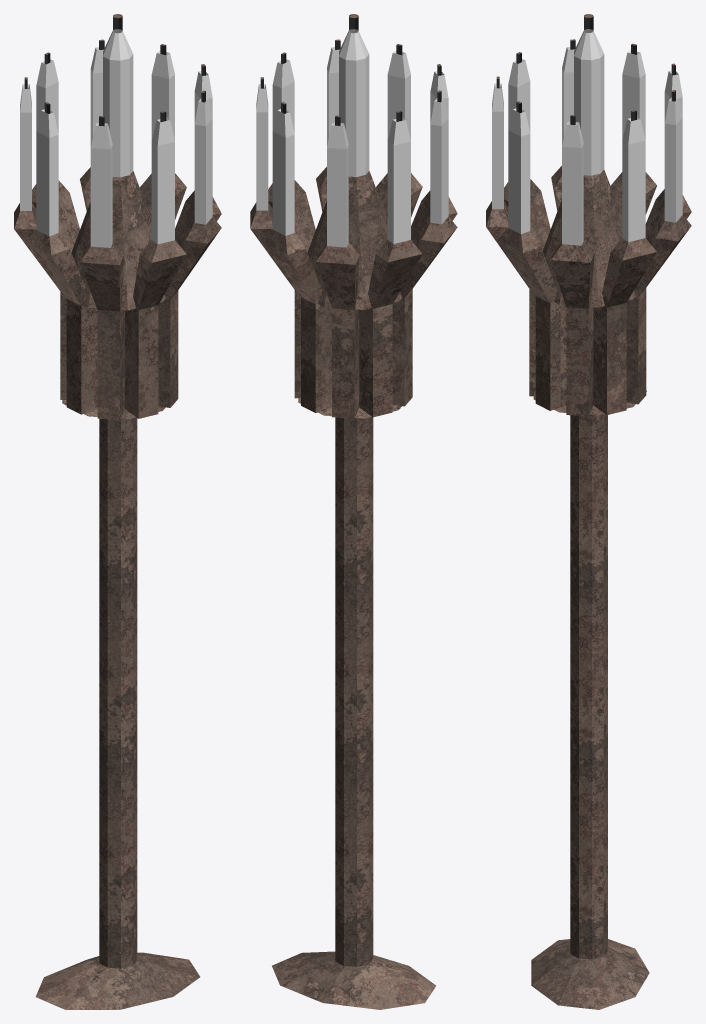
Rendered from candelabra.glb.
3 views of the same model, side by side, from view 1: azimuth 30°, elevation 25°; view 2: azimuth 150°, elevation 25°; view 3: azimuth 270°, elevation 25° (orthographic).
Visible parts, largest first — view 1: Circle; view 2: Circle; view 3: Circle.
Part boxes in pixels (x1,y1,x2,y2): Circle: (14,14,221,1009); Circle: (250,14,457,1009); Circle: (486,14,691,1009).
Bounding box in the file's own units: 0.5271 × 2.66 × 0.5191.
3 materials, 1 textured.
